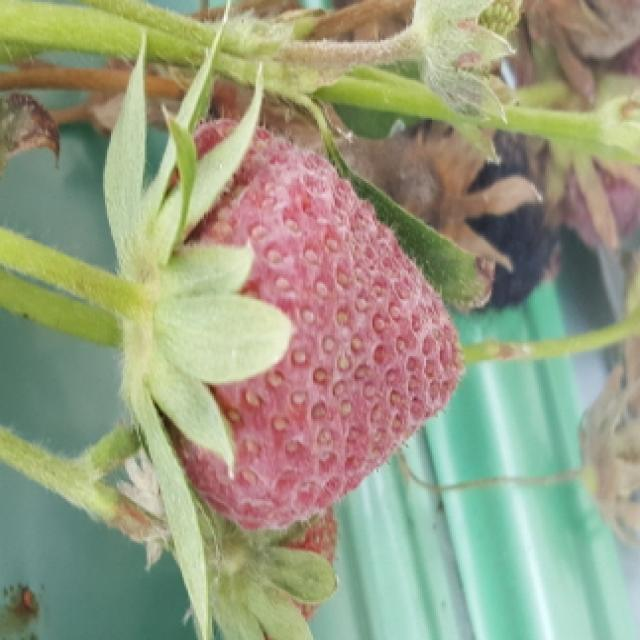Powdery Mildew Fruit: (122, 115, 468, 536)
